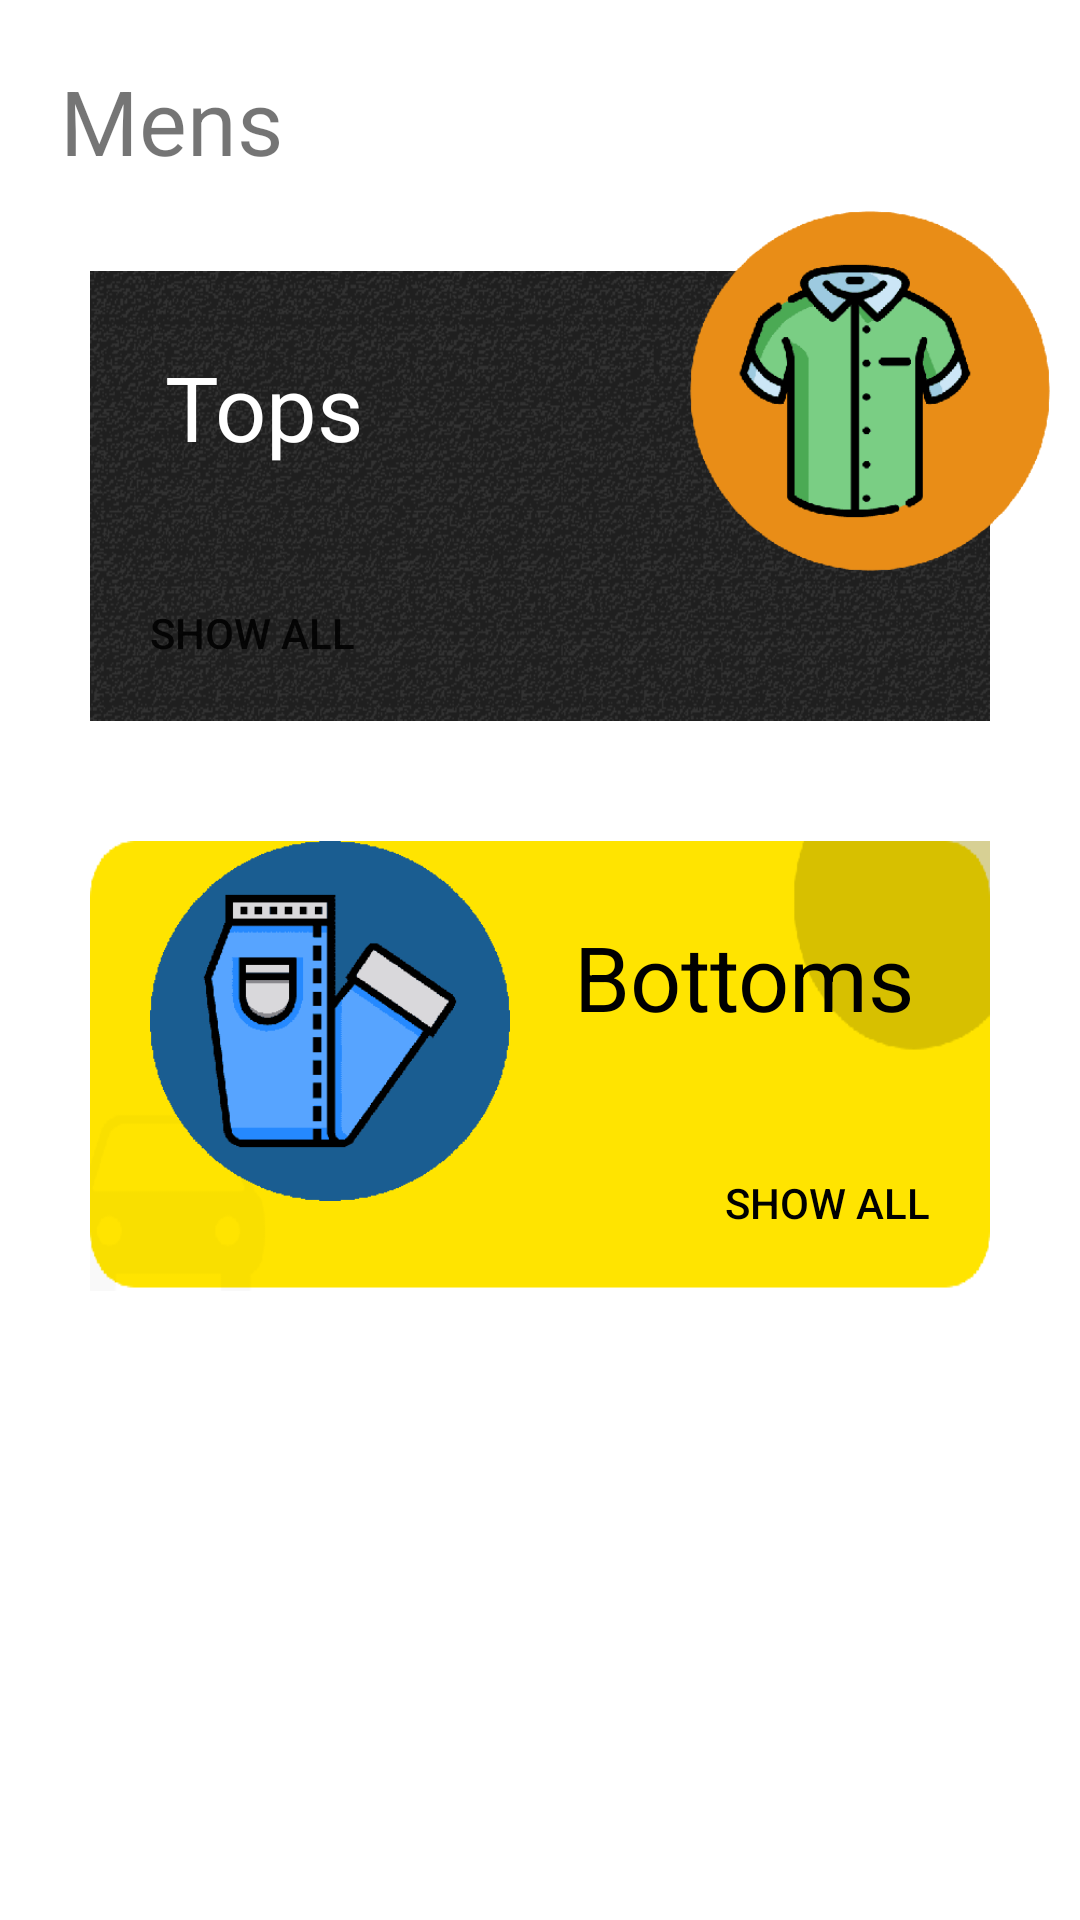

Point at icon controls on the screen. Image size 1080 × 1920, points as (x,y).
mens bottom: (330,1021)
mens top: (870,391)
